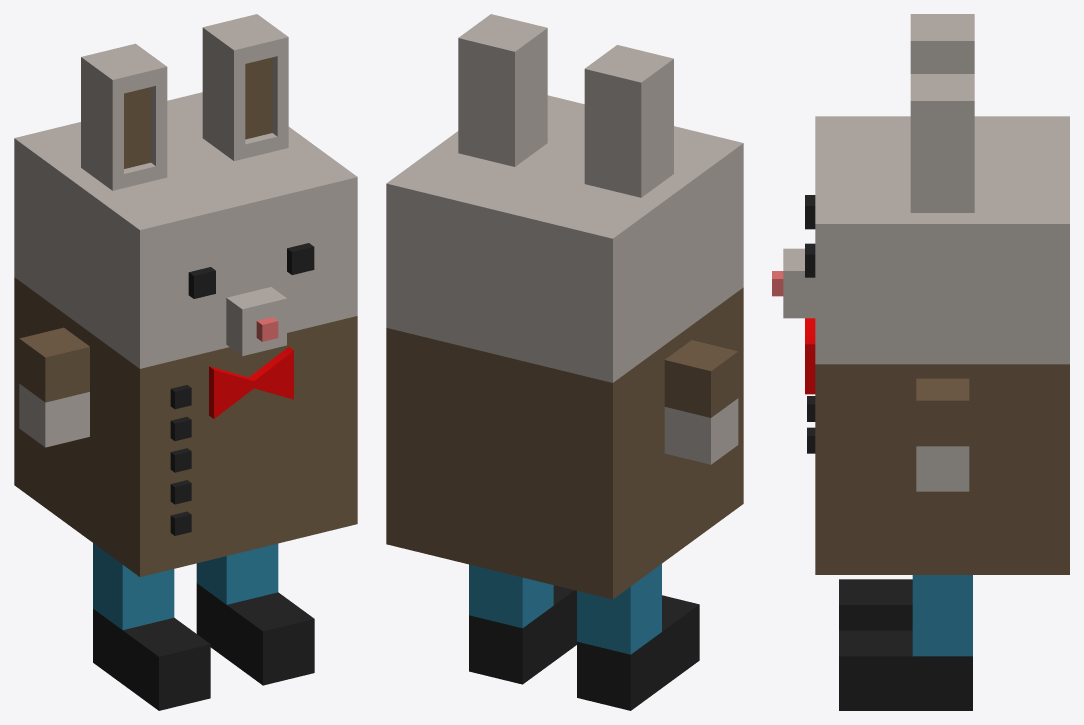
The model's file is 069 Rabbir.fbx.
The picture shows the model from 3 angles, left to right: view 1: azimuth 30°, elevation 25°; view 2: azimuth 150°, elevation 25°; view 3: azimuth 270°, elevation 25°; orthographic projection. The views are drawn at different scales.
Parts seen in each view (by area): view 1: Lowpoly_Christmas_Pack_068:pCube21; view 2: Lowpoly_Christmas_Pack_068:pCube21; view 3: Lowpoly_Christmas_Pack_068:pCube21.
Part boxes in pixels (bbox=[...]): Lowpoly_Christmas_Pack_068:pCube21: bbox=[14, 14, 357, 710]; Lowpoly_Christmas_Pack_068:pCube21: bbox=[386, 14, 743, 710]; Lowpoly_Christmas_Pack_068:pCube21: bbox=[772, 14, 1069, 710].
Size of the model in its own units: 1.41 by 2.67 by 1.17.
